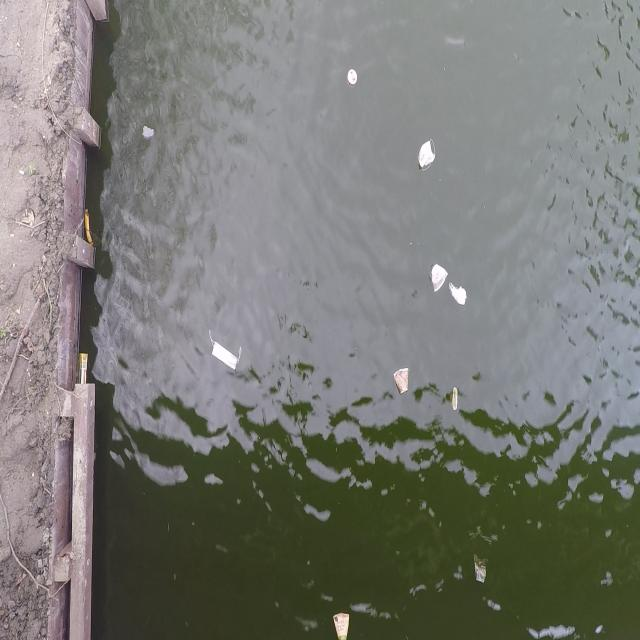Non plastique: (205, 328, 245, 376), (329, 607, 358, 640), (416, 134, 438, 174), (427, 256, 448, 297), (392, 364, 416, 399)
